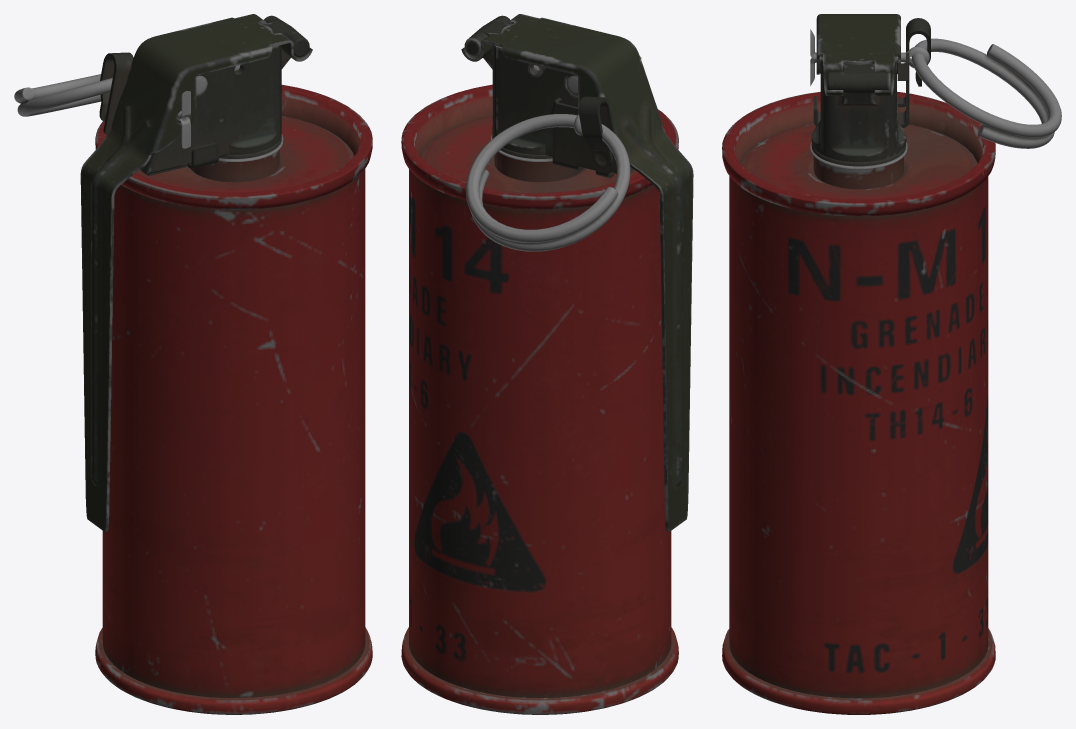
Rendered from weapon_gren_incend.glb.
3 renders of one model, left to right at view 1: azimuth 30°, elevation 25°; view 2: azimuth 150°, elevation 25°; view 3: azimuth 270°, elevation 25°, orthographic.
Visible parts, largest first — view 1: weapons/models/grenade/incendiary/weapon_incendiarygrenade.v; view 2: weapons/models/grenade/incendiary/weapon_incendiarygrenade.v; view 3: weapons/models/grenade/incendiary/weapon_incendiarygrenade.v.
Part boxes in pixels (x1,y1,x2,y2): weapons/models/grenade/incendiary/weapon_incendiarygrenade.v: [14, 14, 372, 714]; weapons/models/grenade/incendiary/weapon_incendiarygrenade.v: [401, 14, 693, 714]; weapons/models/grenade/incendiary/weapon_incendiarygrenade.v: [722, 14, 1061, 714].
Bounding box in the file's own units: 0.0527 × 0.1181 × 0.0594.
Materials: 1 (1 with a texture image).
